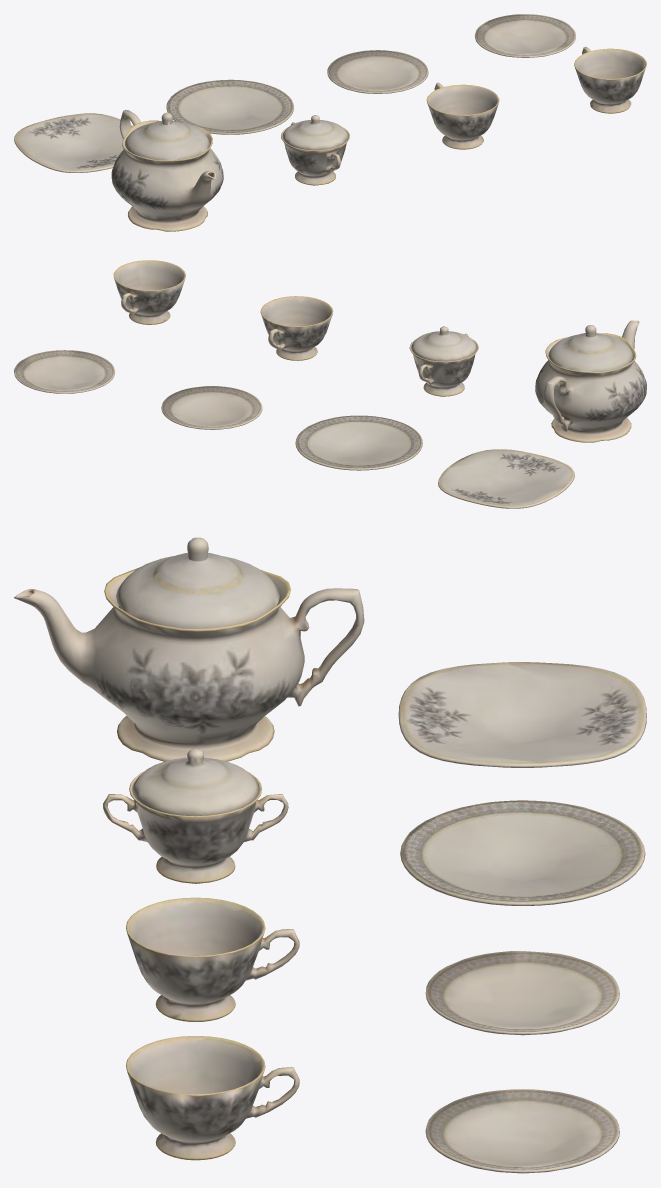
The model's file is tea_set_01.glb.
3 views of the same model, one above another, from view 1: azimuth 30°, elevation 25°; view 2: azimuth 150°, elevation 25°; view 3: azimuth 270°, elevation 25° (orthographic). The views are drawn at different scales.
Visible parts, largest first — view 1: tea_set_01_plate_large_square_01; view 2: tea_set_01_plate_large_square_01; view 3: tea_set_01_plate_large_square_01.
Part boxes in pixels (x1,y1,x2,y2): tea_set_01_plate_large_square_01: (14,14,646,231); tea_set_01_plate_large_square_01: (14,260,646,508); tea_set_01_plate_large_square_01: (14,537,646,1173).
Bounding box in the file's own units: 0.9183 × 0.165 × 0.4839.
1 material, 1 textured.
